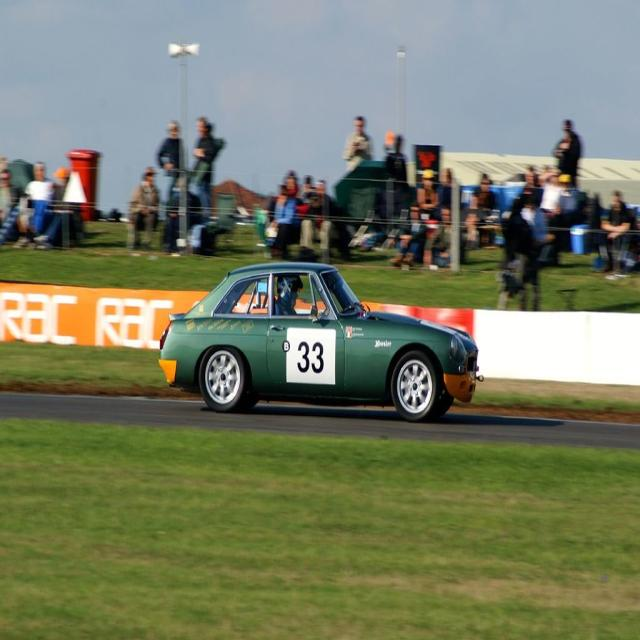car: (164, 250, 484, 423)
